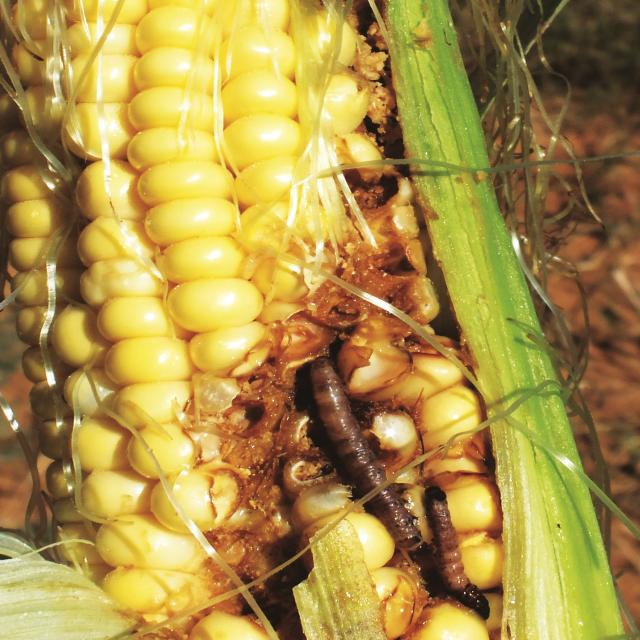cornborer-Larva-: (295, 350, 434, 556), (410, 475, 500, 625)
